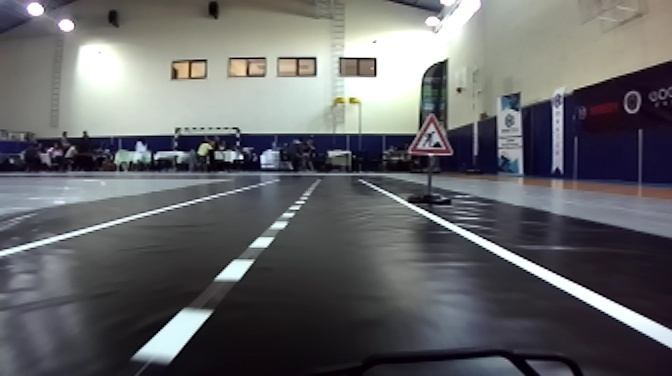yol_yapimi: (405, 115, 453, 159)
